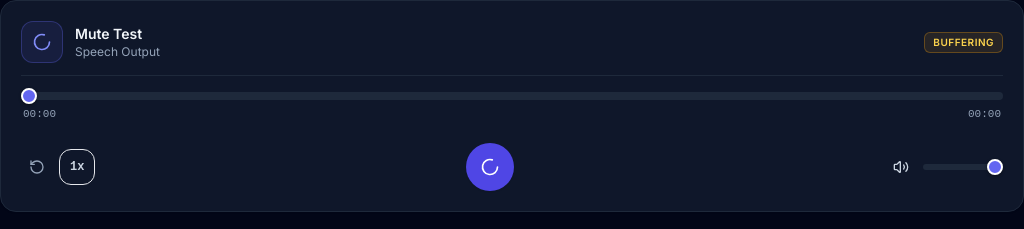
Test: Audio Player and Download Component › toggles mute on mute button click
The image size is (1024, 229).
What coordinates should you click on to do the following:
click the button named "Mute audio"
I would click on:
 (901, 166)
Its box is [885,148,917,184].
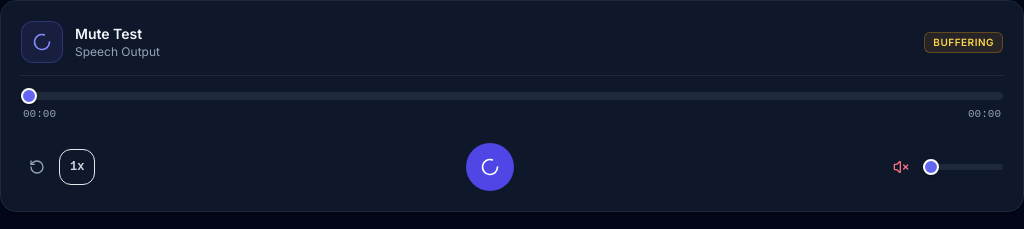
Expected: the button named "Unmute audio" is shown, [885,148,917,184]
